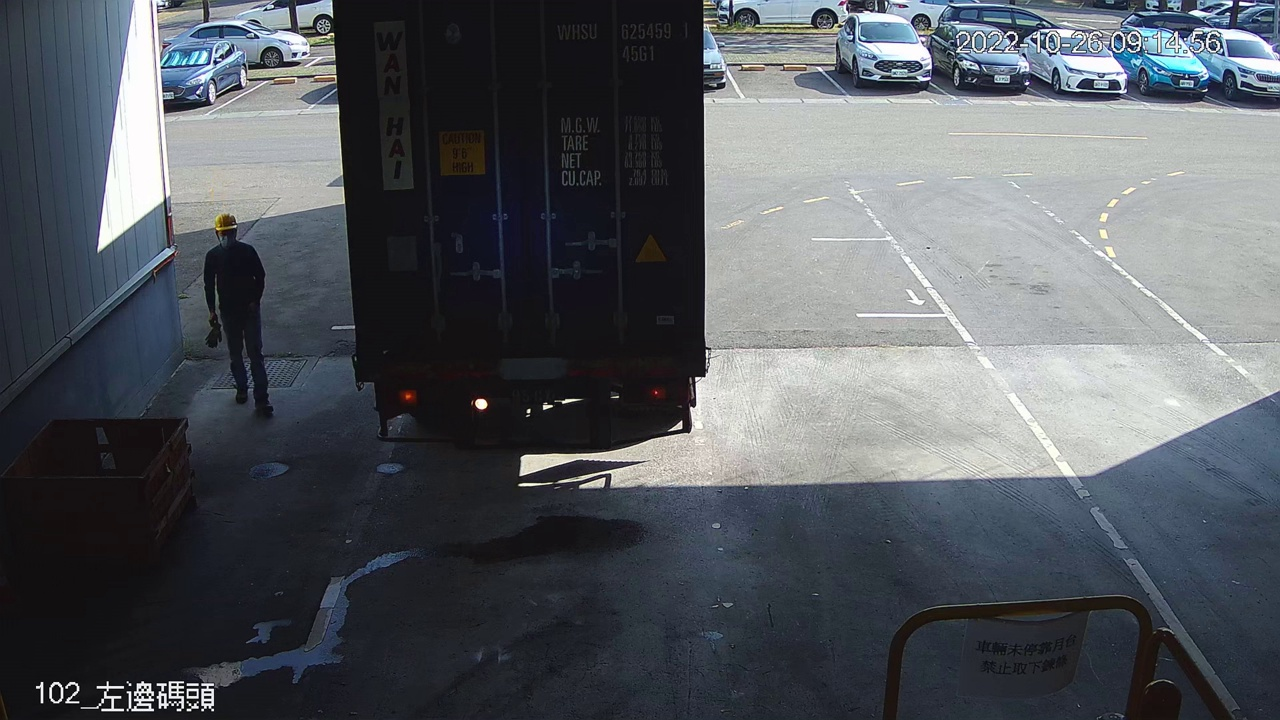container: (548, 12, 695, 69)
